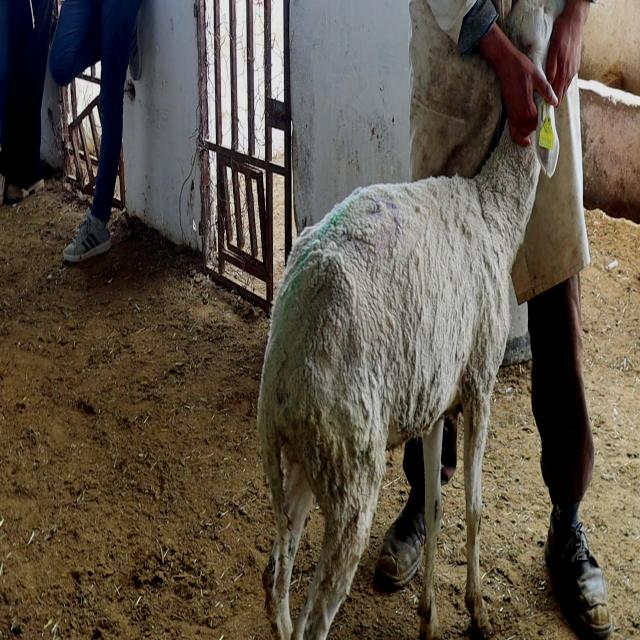Score_1: (258, 101, 559, 639)
